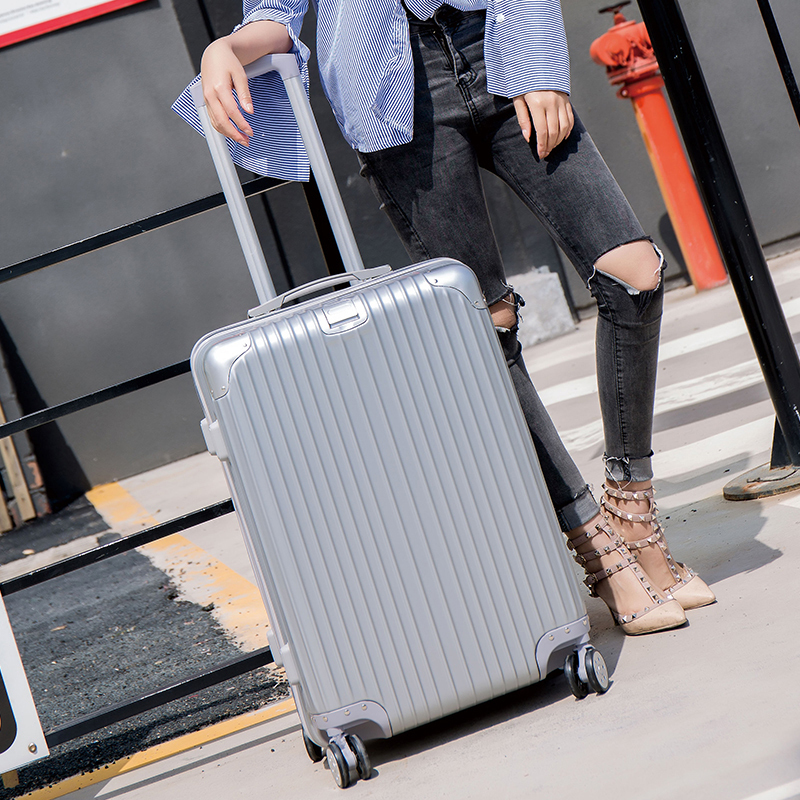box: (189, 255, 590, 738)
handle: (247, 263, 392, 317)
wheel: (323, 732, 375, 789), (564, 646, 608, 700)
